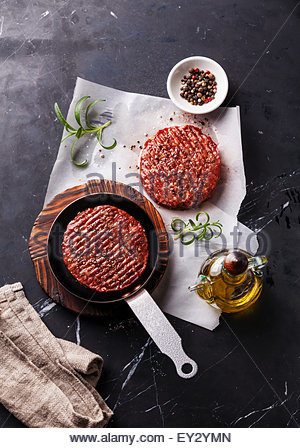ground_beef: (136, 122, 227, 210), (58, 211, 146, 283)
